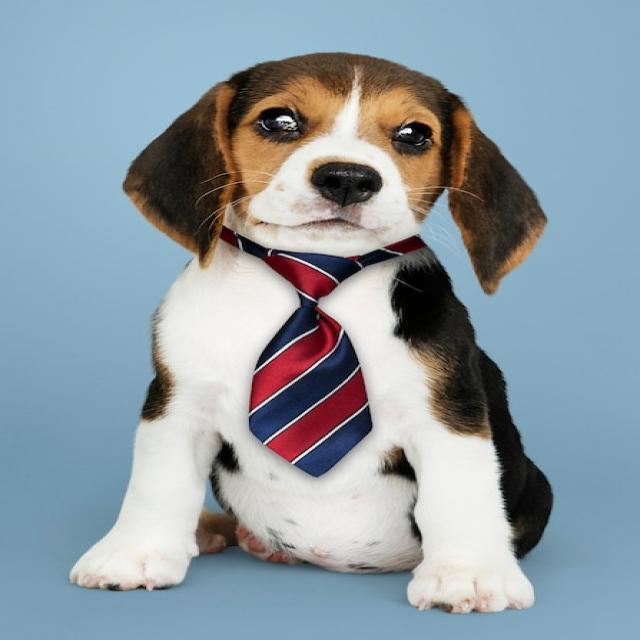Dog: (68, 52, 557, 614)
